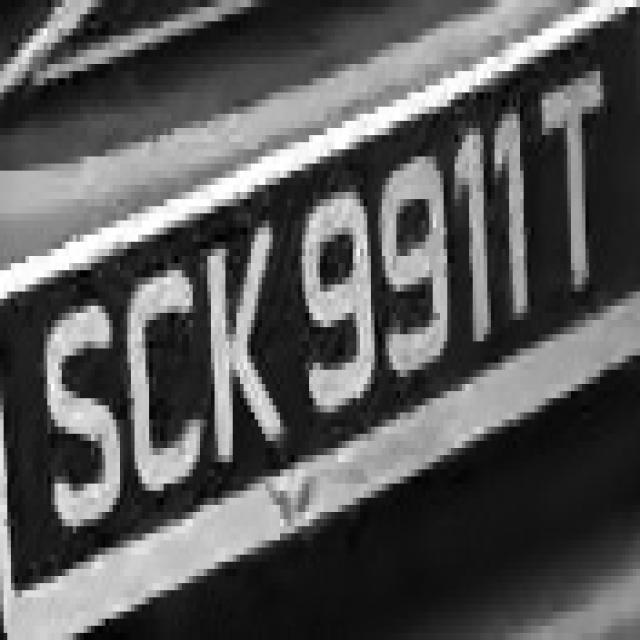1: (455, 114, 498, 341), (494, 100, 531, 342)
9: (371, 142, 451, 412), (302, 178, 382, 434)
C: (124, 263, 207, 498)
K: (204, 206, 287, 491)
S: (40, 313, 116, 547)
T: (535, 78, 618, 299)
